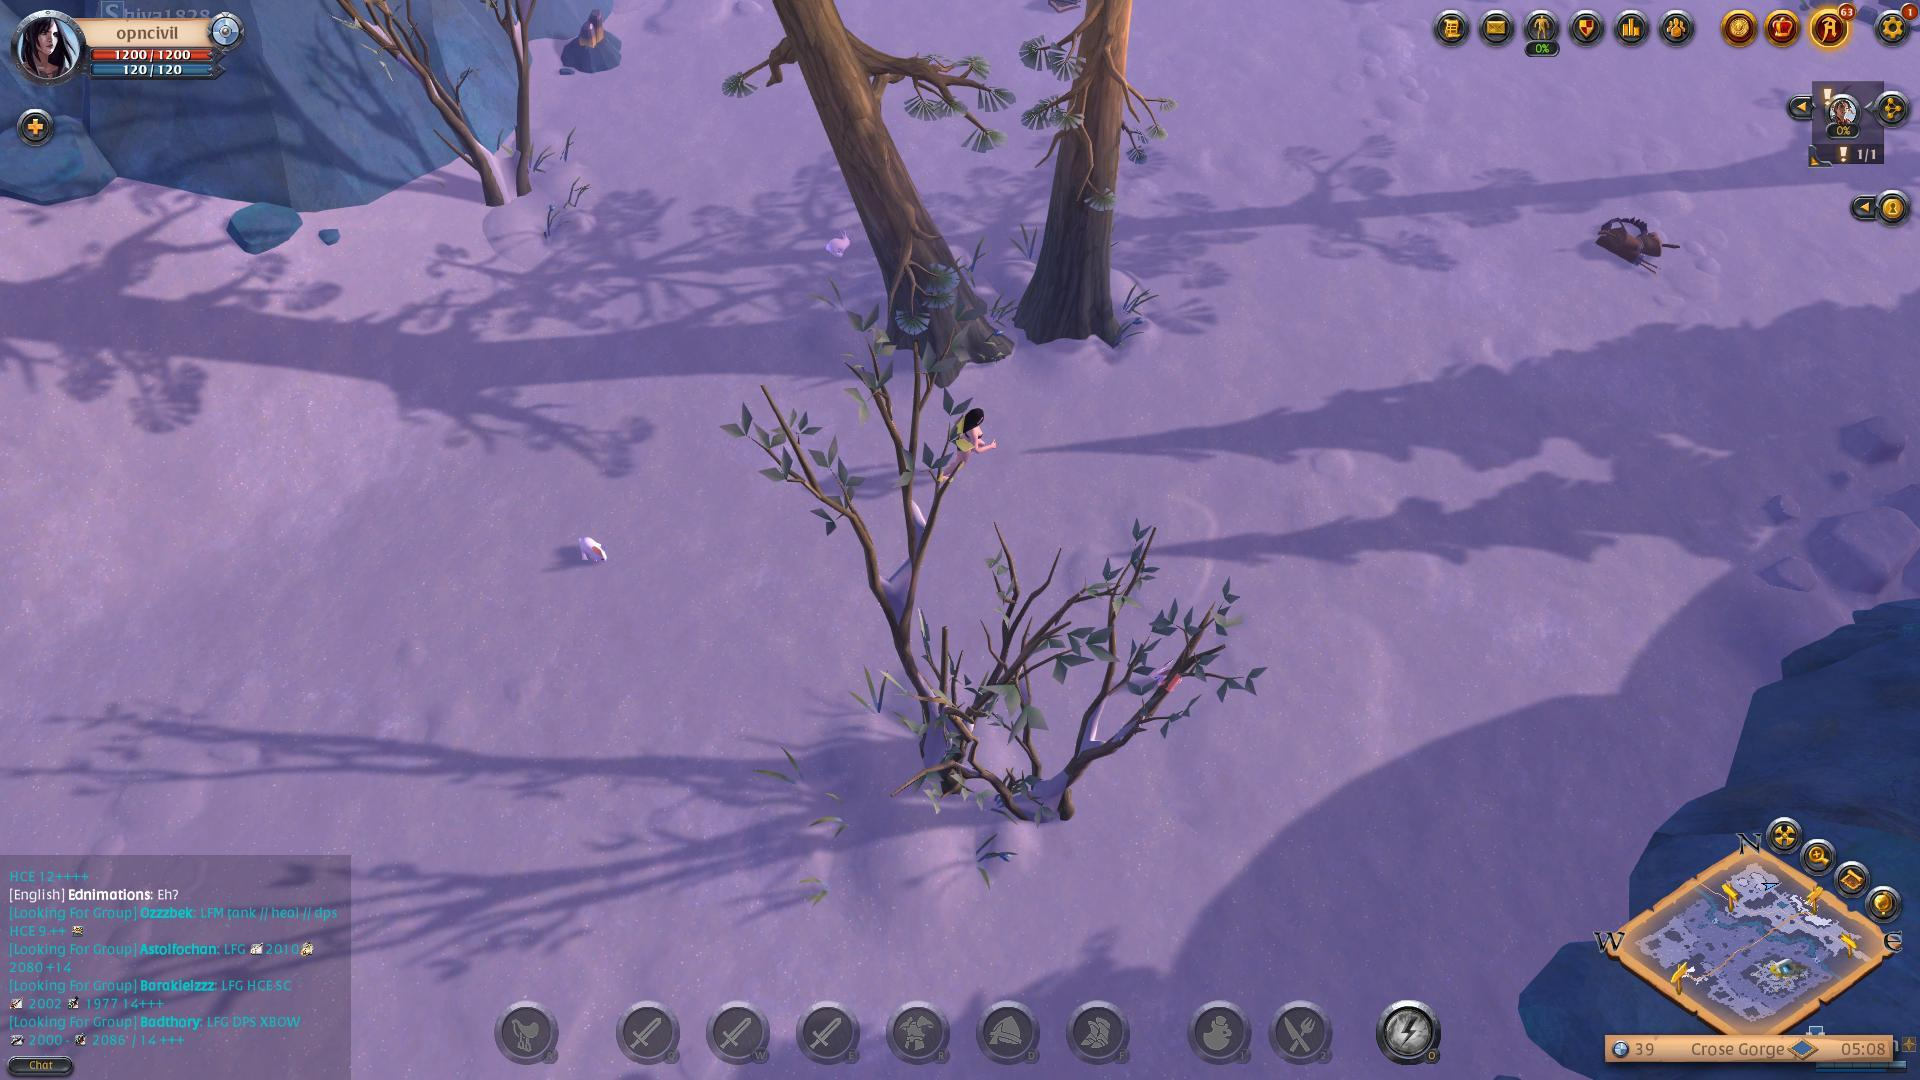copper_ore: (562, 15, 636, 80)
